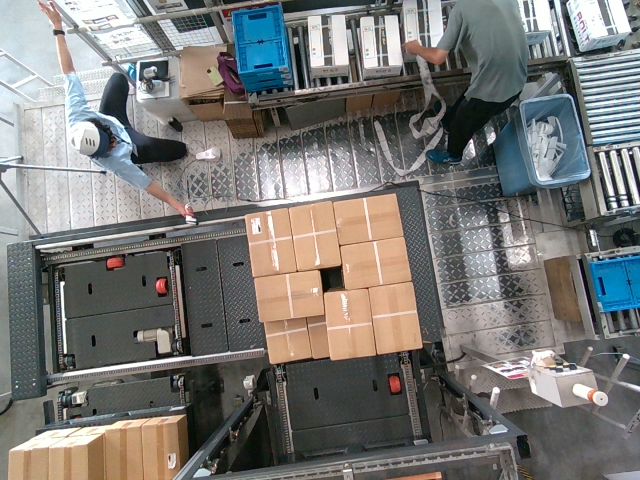box: (369, 283, 420, 355), (288, 201, 342, 267), (243, 206, 295, 274), (324, 287, 372, 357), (326, 192, 400, 237), (247, 275, 324, 316), (336, 242, 410, 283)
